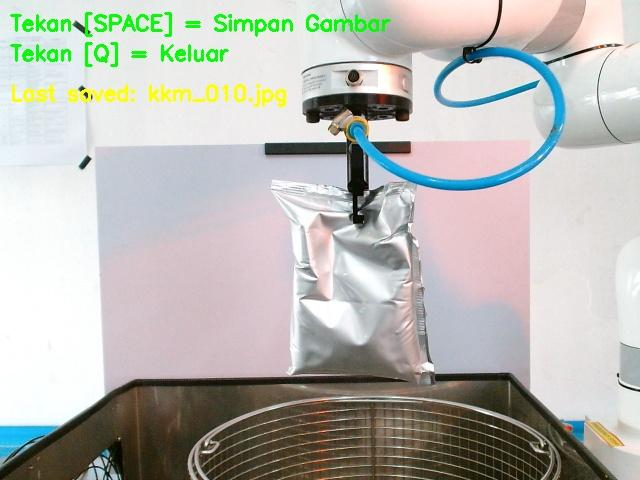retort-pouch: (272, 177, 436, 383)
